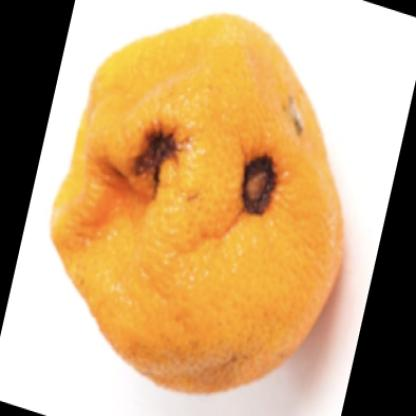rotten: (49, 13, 342, 396)
